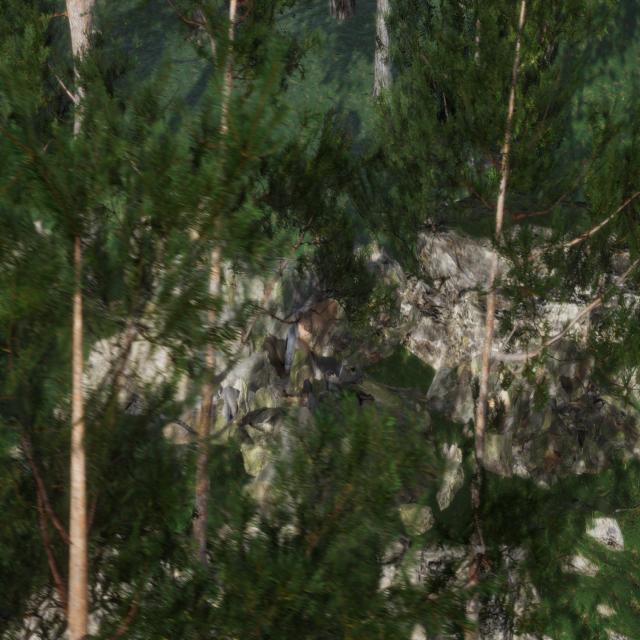Human: (258, 303, 362, 407)
